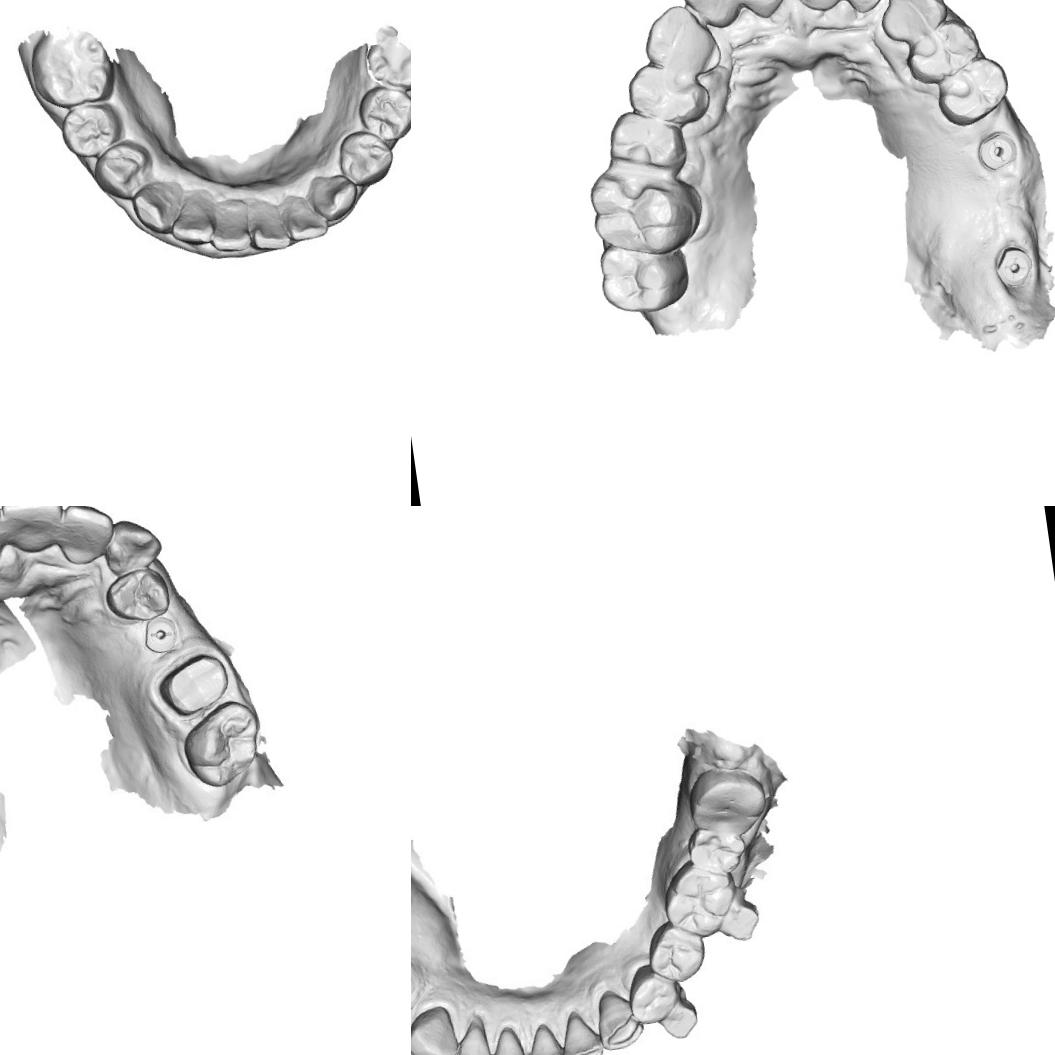canine: (637, 0, 721, 81), (99, 514, 165, 580), (588, 981, 645, 1055), (873, 0, 952, 45), (411, 999, 462, 1055), (135, 178, 184, 234), (310, 170, 356, 219)
crown: (162, 651, 226, 716)
implant_minus: (976, 127, 1019, 173), (136, 614, 179, 654)
implant_plus: (992, 240, 1039, 292)
incisor: (0, 506, 71, 559), (54, 506, 119, 561), (249, 197, 296, 256), (206, 200, 256, 254), (167, 192, 217, 246), (448, 1008, 495, 1055), (557, 1007, 601, 1055), (717, 0, 799, 25), (673, 0, 735, 33), (284, 194, 323, 240), (524, 1020, 565, 1055), (836, 0, 903, 17), (487, 1028, 527, 1055)
molar: (584, 156, 710, 264), (176, 698, 268, 794), (594, 240, 695, 319), (27, 20, 110, 106), (688, 768, 770, 854), (661, 854, 737, 936)
premolar: (622, 56, 714, 133), (601, 102, 691, 179), (930, 50, 1016, 128), (900, 13, 987, 86), (101, 563, 169, 622), (646, 922, 707, 984), (56, 102, 118, 161), (96, 140, 158, 198), (340, 132, 396, 185), (630, 967, 682, 1023), (361, 87, 411, 142)
